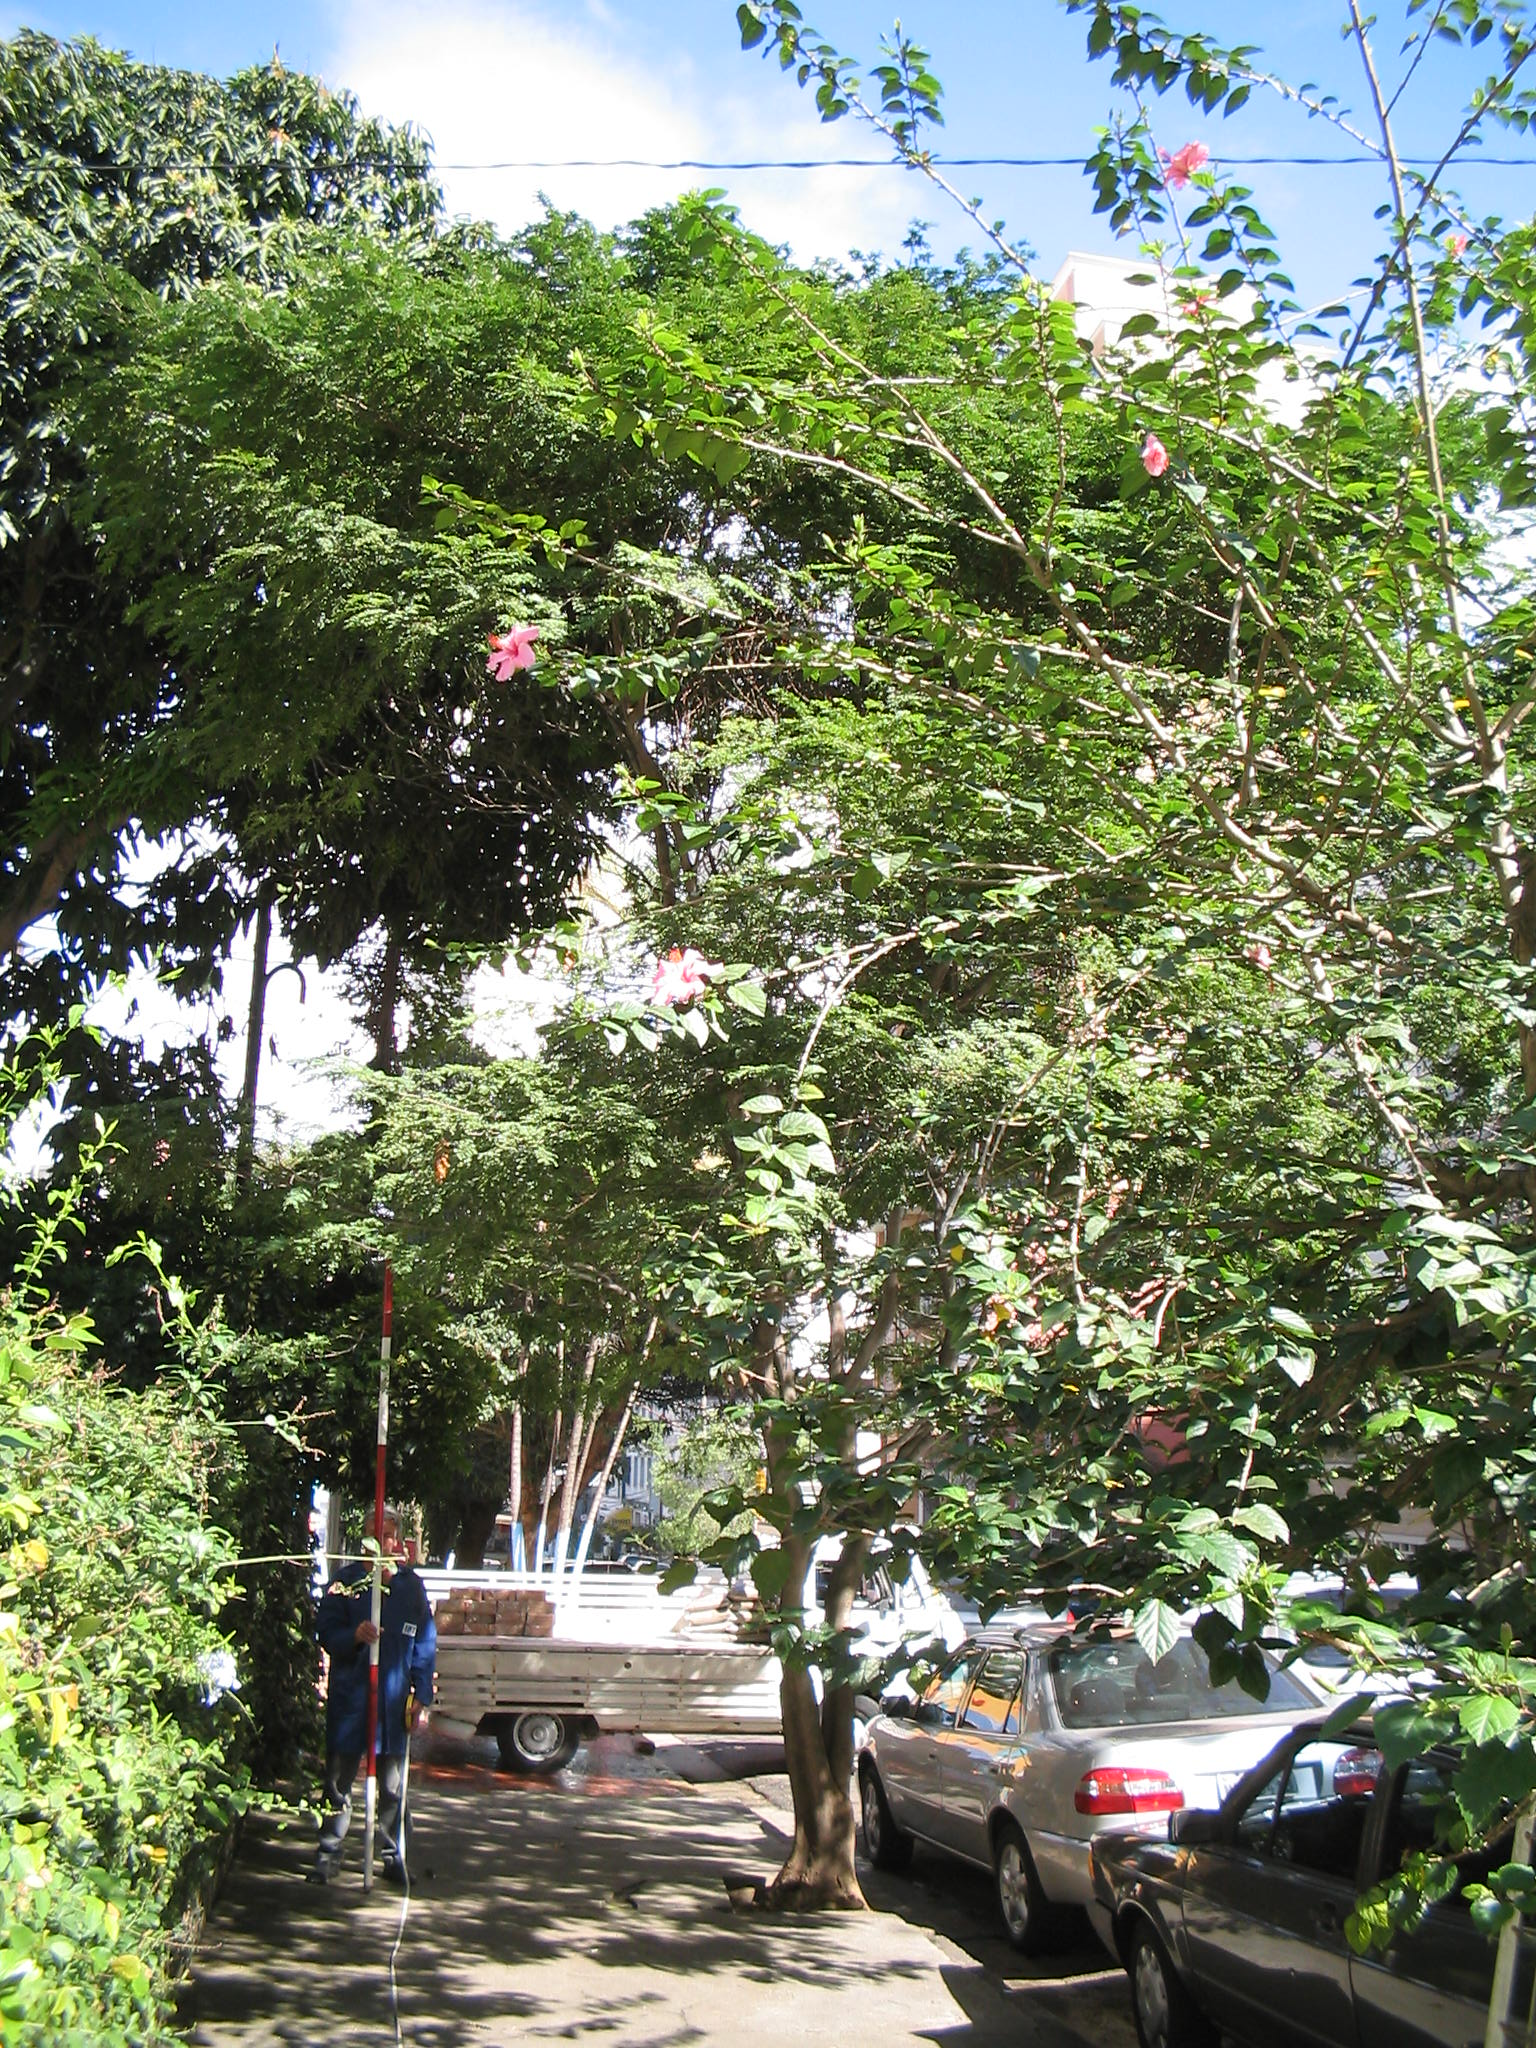stem: (716, 1746, 908, 1911)
stick: (331, 1255, 424, 1895)
